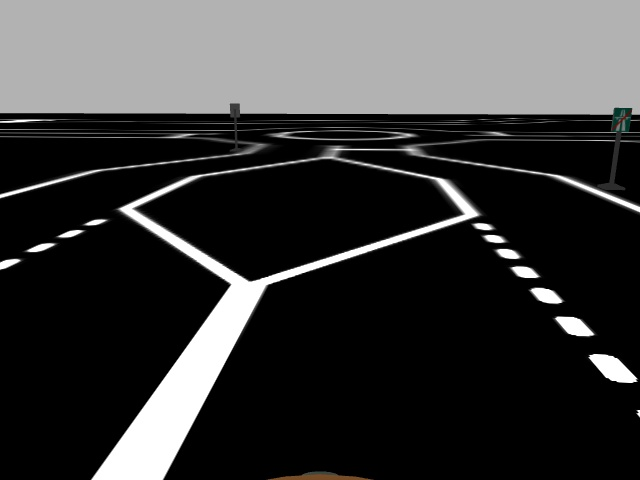leave_highway: (609, 107, 633, 133)
